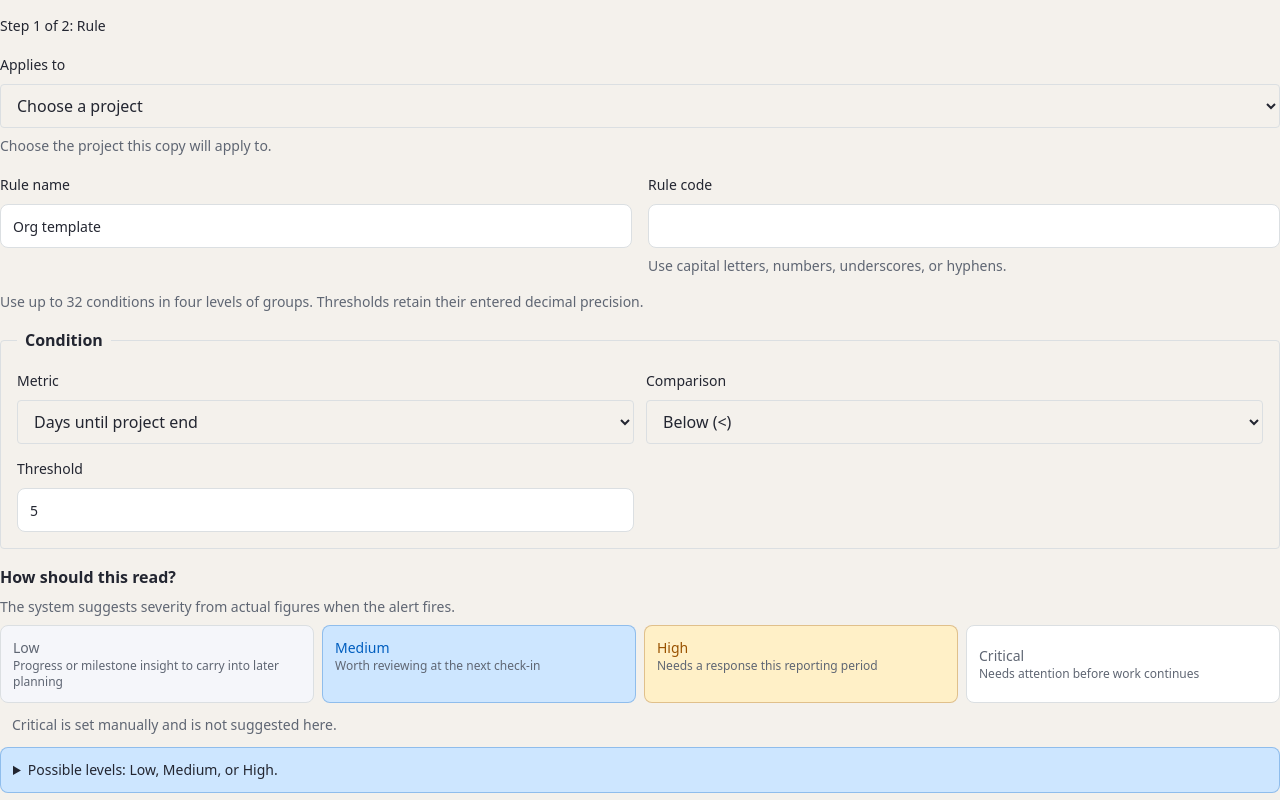
Test: copying a template into a project › rejects submitting a copy with no project chosen
Check: the dropdown labelled "Applies to" is shown, box [0,84,1279,128]
Step 1. Replace the text in the field labelled "Rule name" with "My new rule" → (316, 226), box [0,204,632,248]
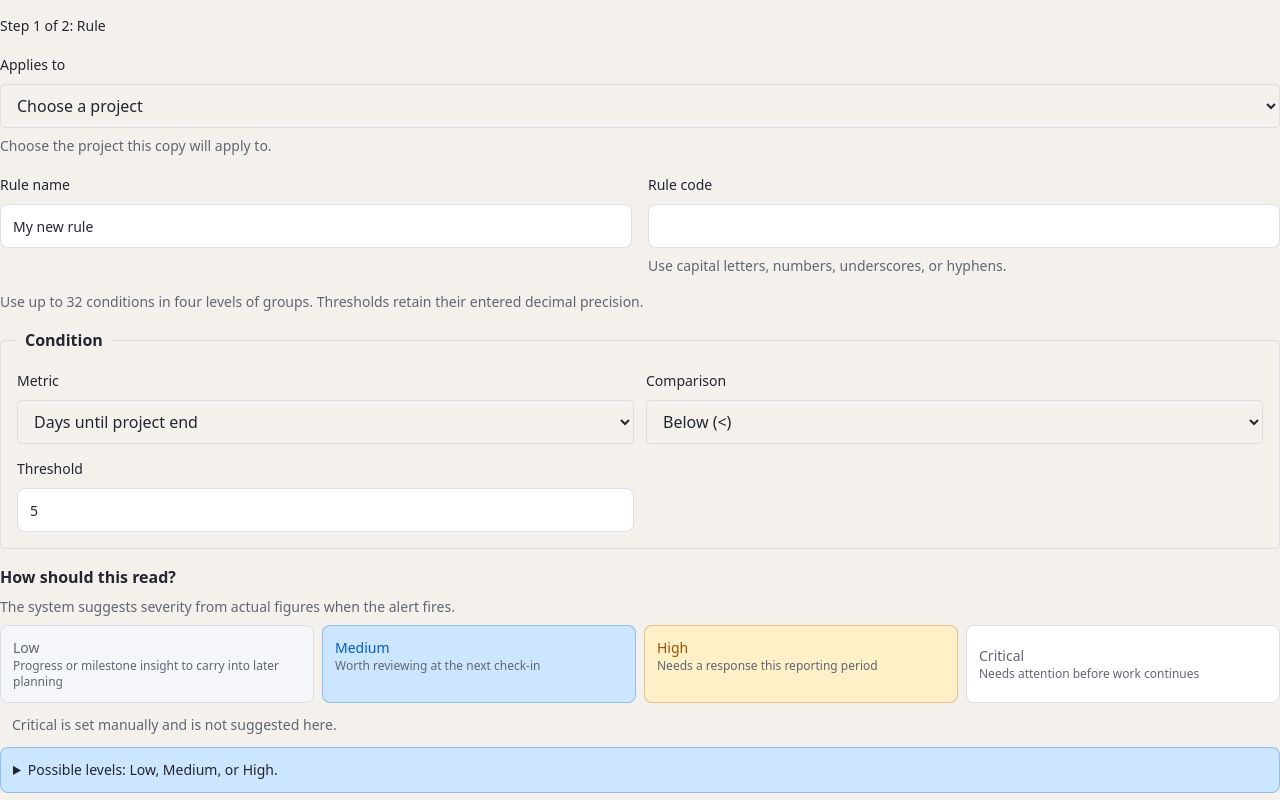
Step 2. Type "MY_NEW_RULE" into the field labelled "Rule code" → (964, 226), box [648,204,1279,248]
(page scrolled)
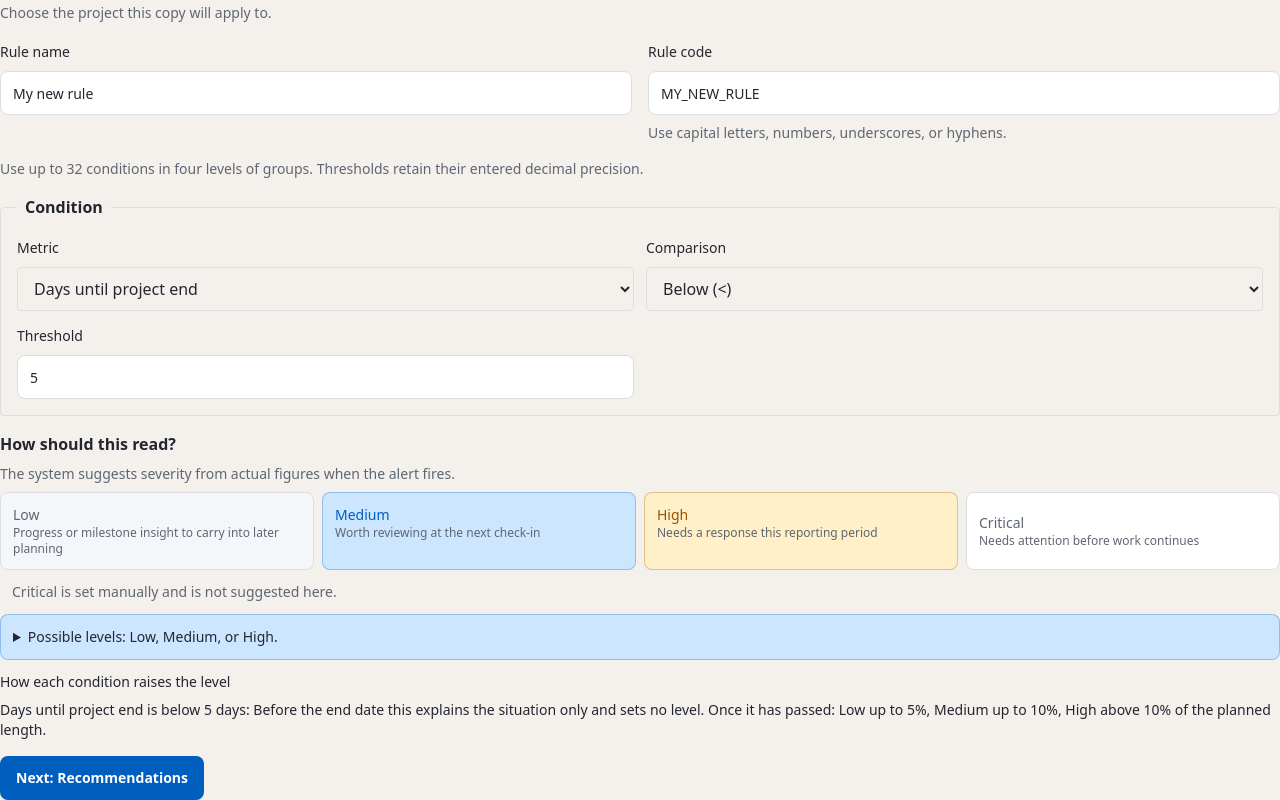
Step 3. Click the button "Next: Recommendations" → (102, 778), box [0,756,204,799]
(page scrolled)
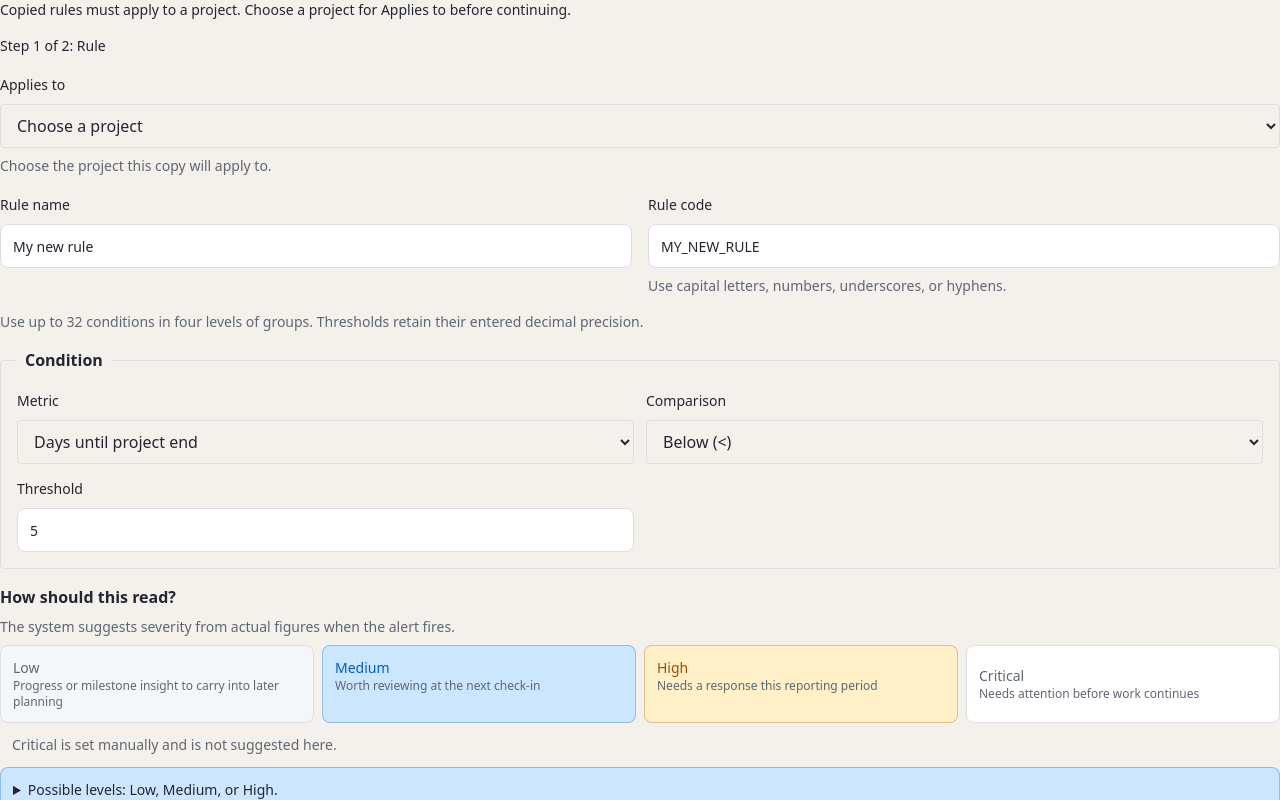
Check: the text "Copied rules must apply to a project. Choose a project for Applies to before continuing." is shown, box [0,0,571,19]
